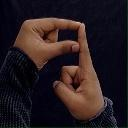hand: (51, 21, 105, 121), (11, 17, 81, 70)
